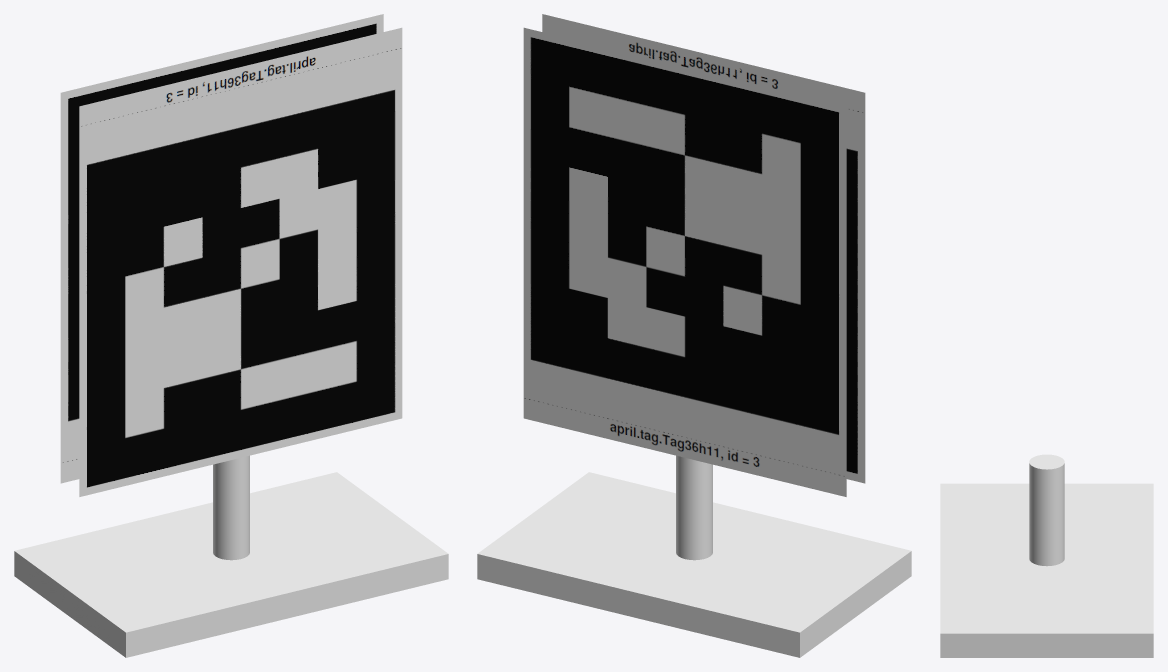
Rendered from tag3-test.dae.
The picture shows the model from 3 angles, left to right: view 1: azimuth 30°, elevation 25°; view 2: azimuth 150°, elevation 25°; view 3: azimuth 270°, elevation 25°; orthographic projection. The views are drawn at different scales.
Parts seen in each view (by area): view 1: image_2, tag (×3), image_1, image_0; view 2: image_1, tag (×3), image_2, image_0; view 3: tag (×3), image_0.
Boxes of the visible parts, bbox=[...] form: image_2: bbox=[79, 27, 402, 496]; tag (×3): bbox=[14, 455, 448, 657]; image_1: bbox=[60, 14, 383, 483]; image_0: bbox=[72, 534, 140, 572]; image_1: bbox=[523, 27, 846, 496]; tag (×3): bbox=[477, 455, 911, 657]; image_2: bbox=[542, 14, 865, 483]; image_0: bbox=[718, 580, 808, 605]; tag (×3): bbox=[940, 454, 1153, 657]; image_0: bbox=[1078, 498, 1135, 528].
Bounding box in the file's own units: 7.87 × 4.72 × 12.06.
Materials: 3 (1 with a texture image).
